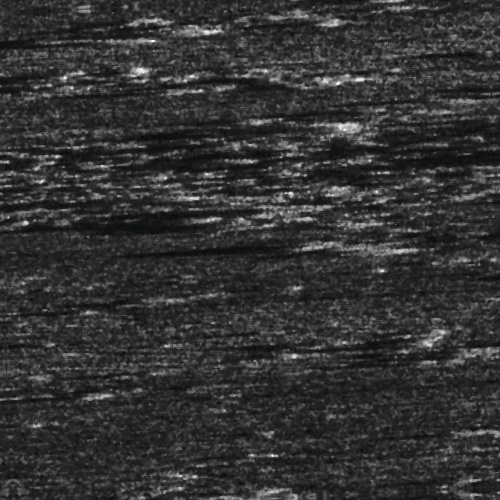object: (185, 210, 330, 233), (270, 236, 375, 255), (151, 18, 276, 31), (238, 200, 353, 213), (125, 187, 260, 198), (107, 27, 180, 34), (323, 125, 376, 132), (63, 380, 116, 387), (150, 81, 223, 86), (394, 364, 457, 369), (328, 20, 359, 27), (491, 150, 500, 161), (486, 60, 500, 65)
shadow: (317, 156, 500, 175), (211, 150, 500, 161), (173, 236, 322, 255), (389, 174, 500, 199), (140, 210, 257, 233), (13, 18, 213, 31), (104, 200, 295, 213), (32, 187, 192, 198), (161, 125, 350, 132), (401, 175, 500, 186), (448, 92, 500, 111), (19, 27, 143, 34), (0, 380, 89, 387), (65, 81, 186, 86), (319, 364, 425, 369), (268, 20, 343, 27), (452, 350, 500, 357), (437, 60, 500, 65)
